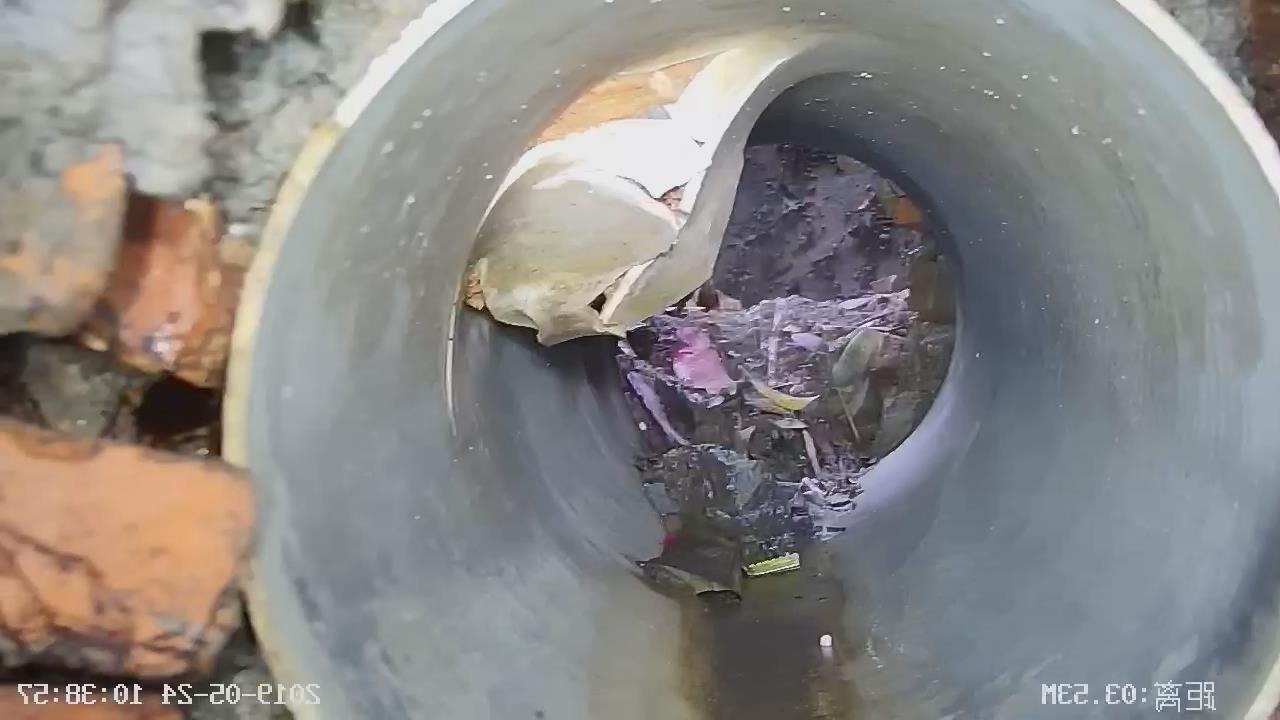PL: (429, 18, 807, 367)
